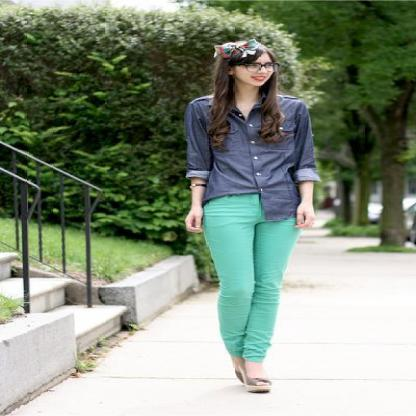pants: (202, 195, 300, 393)
shirt: (182, 91, 324, 224)
